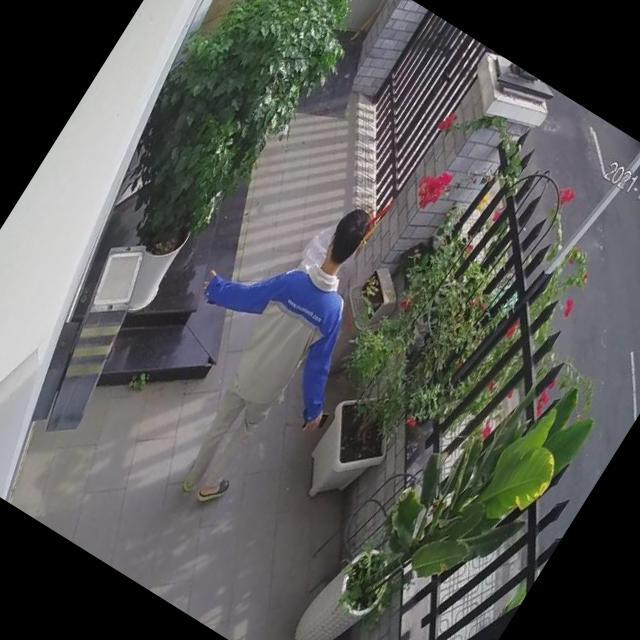person: (109, 160, 428, 532)
